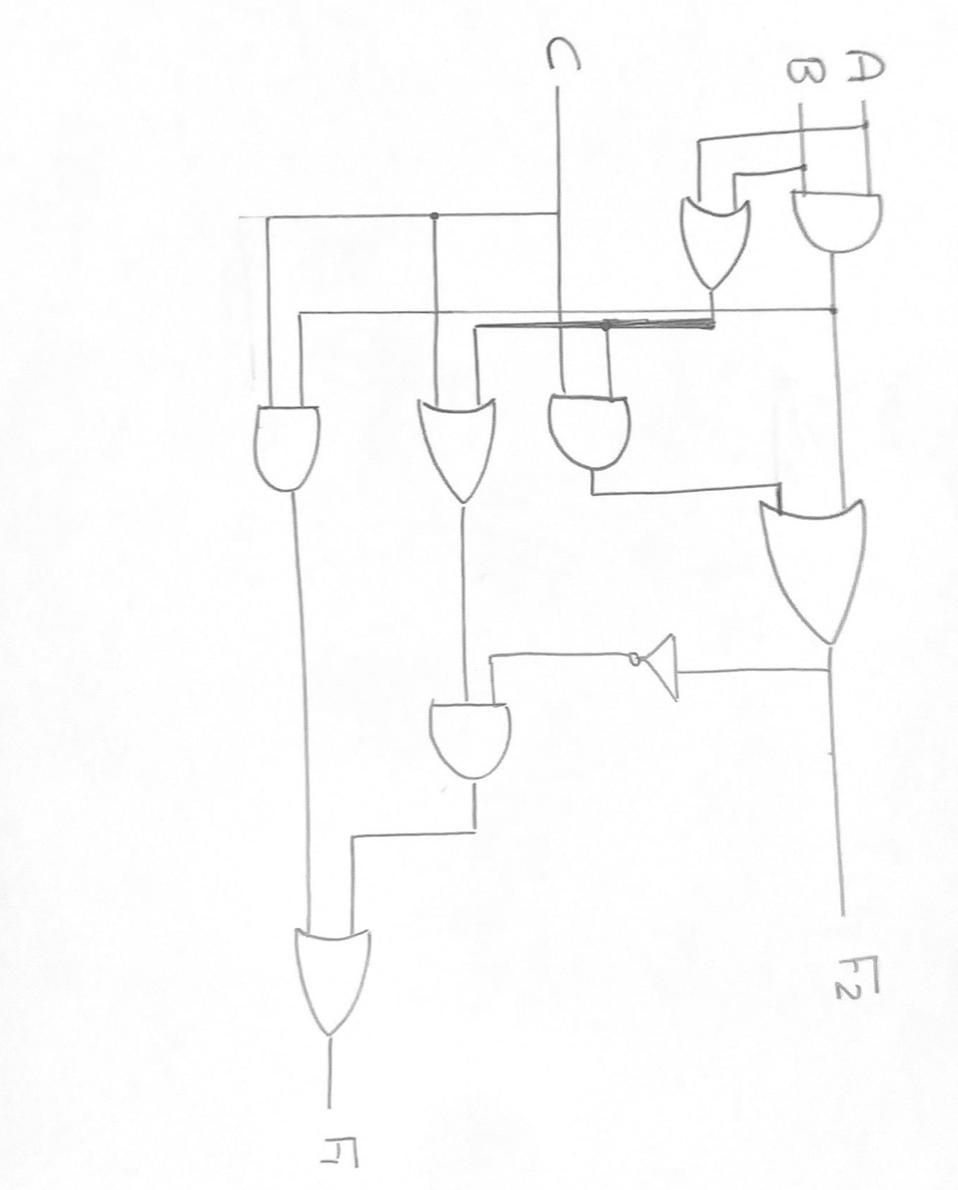AND: (240, 385, 341, 519), (527, 372, 649, 477), (420, 682, 528, 800), (785, 182, 892, 277)
NOT: (608, 612, 705, 711)
OR: (742, 498, 898, 656), (402, 380, 515, 526), (280, 917, 395, 1050), (665, 180, 761, 297)
